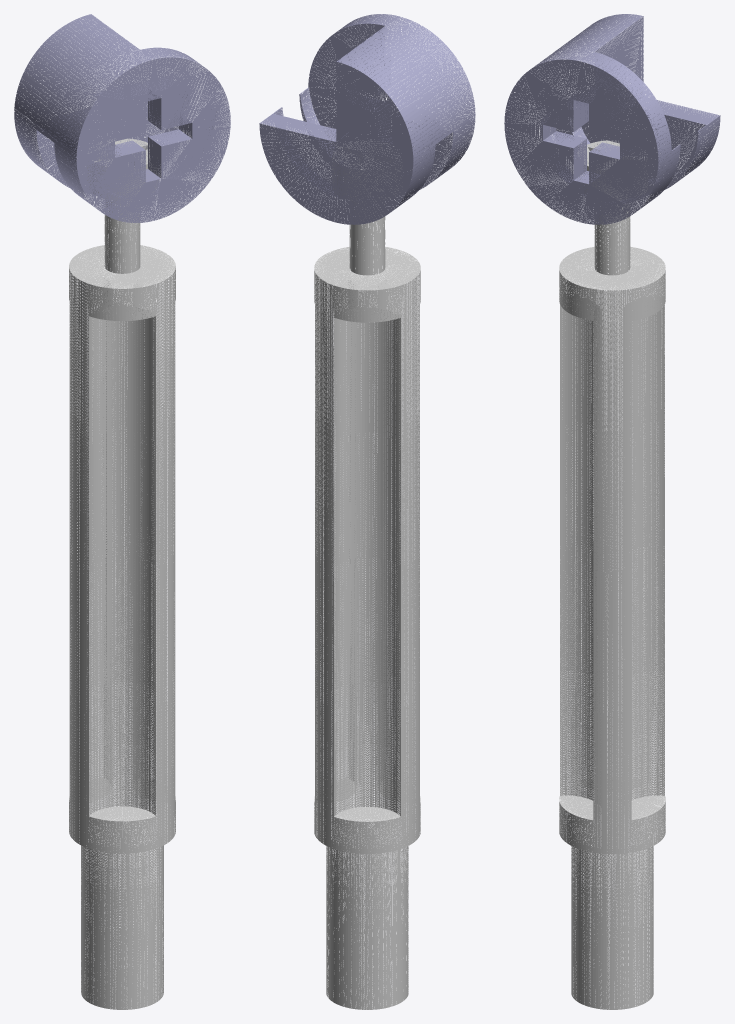
Rendered from together.gltf.
3 views of the same model, side by side, from view 1: azimuth 30°, elevation 25°; view 2: azimuth 150°, elevation 25°; view 3: azimuth 330°, elevation 25° (orthographic).
Parts seen in each view (by area): view 1: together.screw, together.anchor; view 2: together.screw, together.anchor; view 3: together.screw, together.anchor.
Part boxes in pixels (bbox=[...]): together.screw: bbox=[69, 138, 175, 1009]; together.anchor: bbox=[14, 14, 230, 222]; together.screw: bbox=[314, 141, 420, 1009]; together.anchor: bbox=[259, 14, 475, 224]; together.screw: bbox=[559, 140, 665, 1009]; together.anchor: bbox=[504, 14, 720, 224].
Size of the model in its own units: 0.01 by 0.0592 by 0.007.
